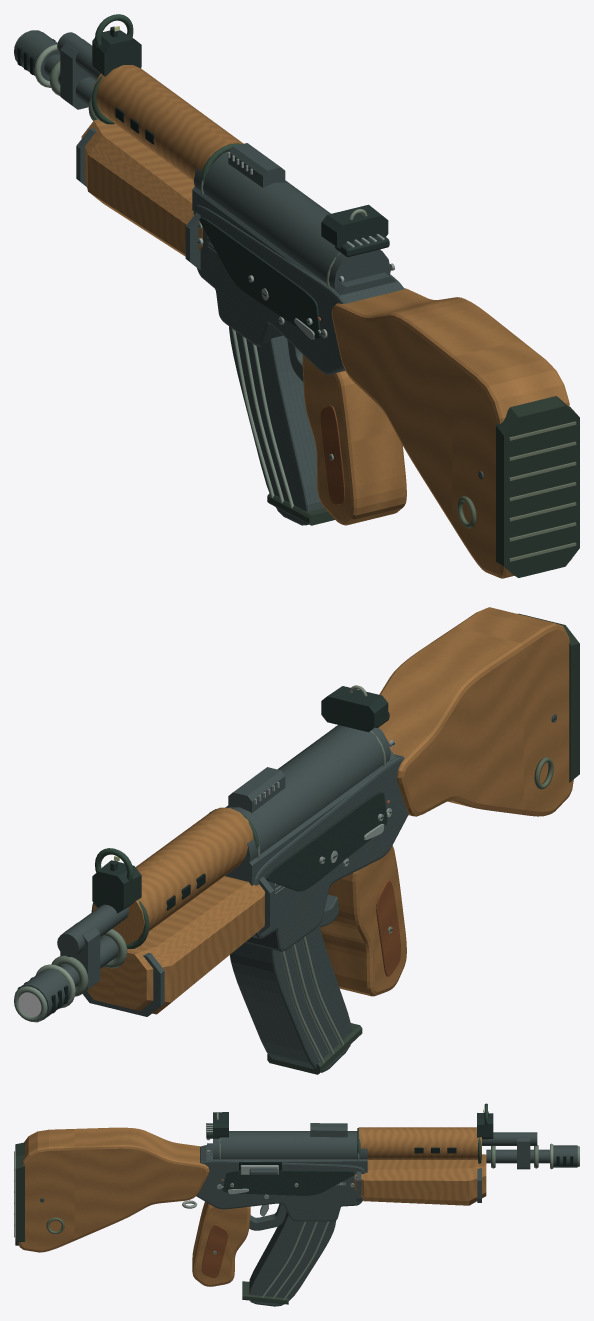
The picture shows the model from 3 angles, top to bottom: view 1: azimuth 30°, elevation 25°; view 2: azimuth 150°, elevation 25°; view 3: azimuth 270°, elevation 25°; orthographic projection. The views are drawn at different scales.
Parts seen in each view (by area): view 1: ak47, magazine; view 2: ak47, magazine; view 3: ak47, magazine, bolt.
Part boxes in pixels (x1,y1,x2,y2): ak47: [14, 14, 579, 578]; magazine: [229, 326, 334, 525]; ak47: [14, 607, 579, 1022]; magazine: [229, 925, 362, 1074]; ak47: [14, 1103, 579, 1286]; magazine: [242, 1211, 336, 1306]; bolt: [240, 1165, 278, 1175].
Size of the model in its own units: 0.153 by 0.5658 by 1.48.
28 materials, 14 textured.
